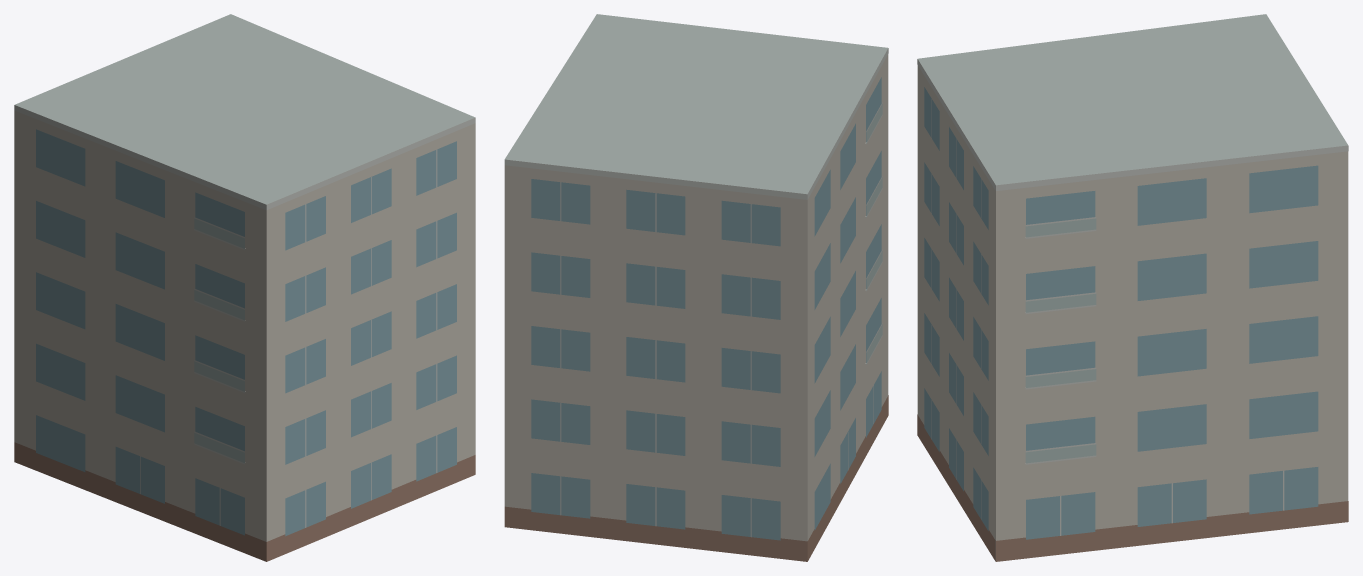
File: survey-upis-32983269.glb
3 renders of one model, left to right at view 1: azimuth 30°, elevation 25°; view 2: azimuth 150°, elevation 25°; view 3: azimuth 270°, elevation 25°, orthographic. The views are drawn at different scales.
Parts seen in each view (by area): view 1: survey-upis-32983269.tmp; view 2: survey-upis-32983269.tmp; view 3: survey-upis-32983269.tmp.
Part boxes in pixels (left/top/right/bottom): survey-upis-32983269.tmp: left=14, top=14, right=475, bottom=561; survey-upis-32983269.tmp: left=504, top=14, right=888, bottom=561; survey-upis-32983269.tmp: left=917, top=14, right=1348, bottom=561.
Bounding box in the file's own units: 15.28 × 15.65 × 16.24.
